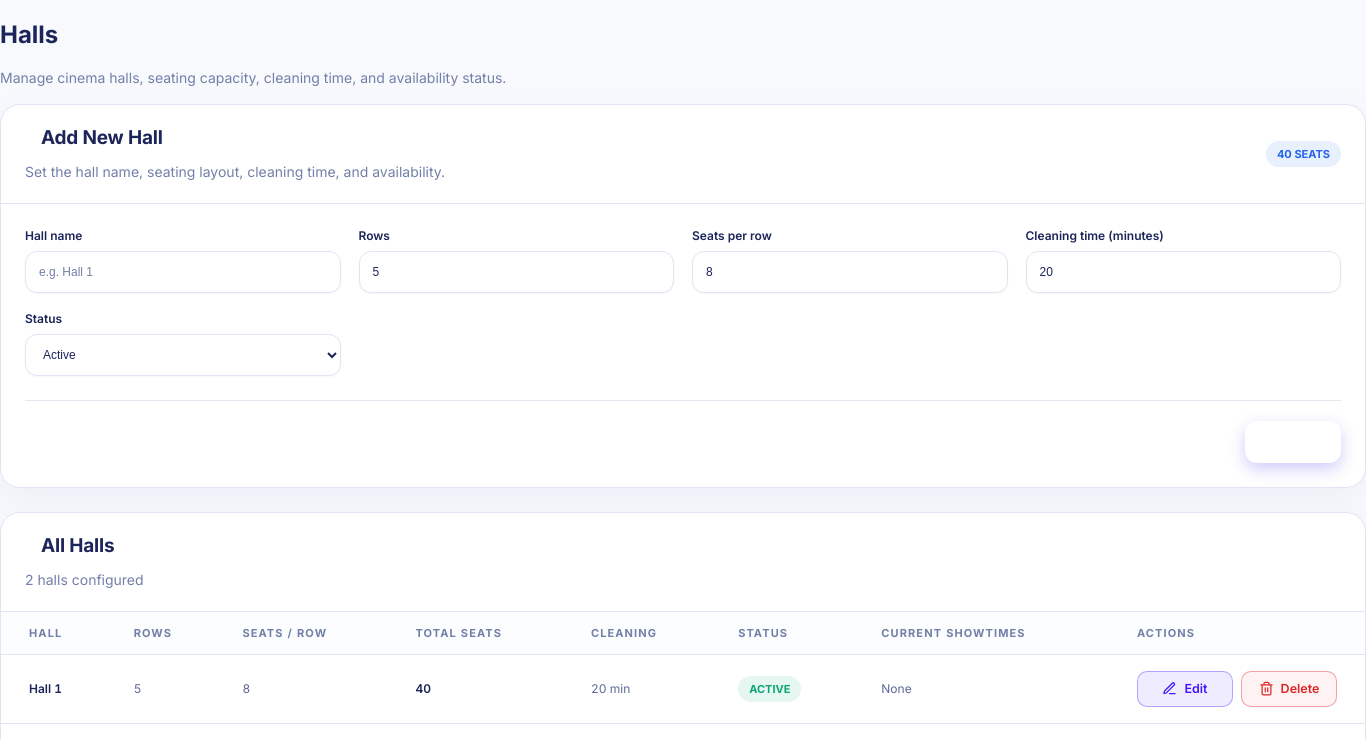
it: Halls Admin Page › should update an existing hall successfully
Expected: the text "Hall 1" is shown, [1, 655, 114, 724]
Click the button "Edit" in the row of "Hall 1": click(1185, 689) [1137, 671, 1233, 707]
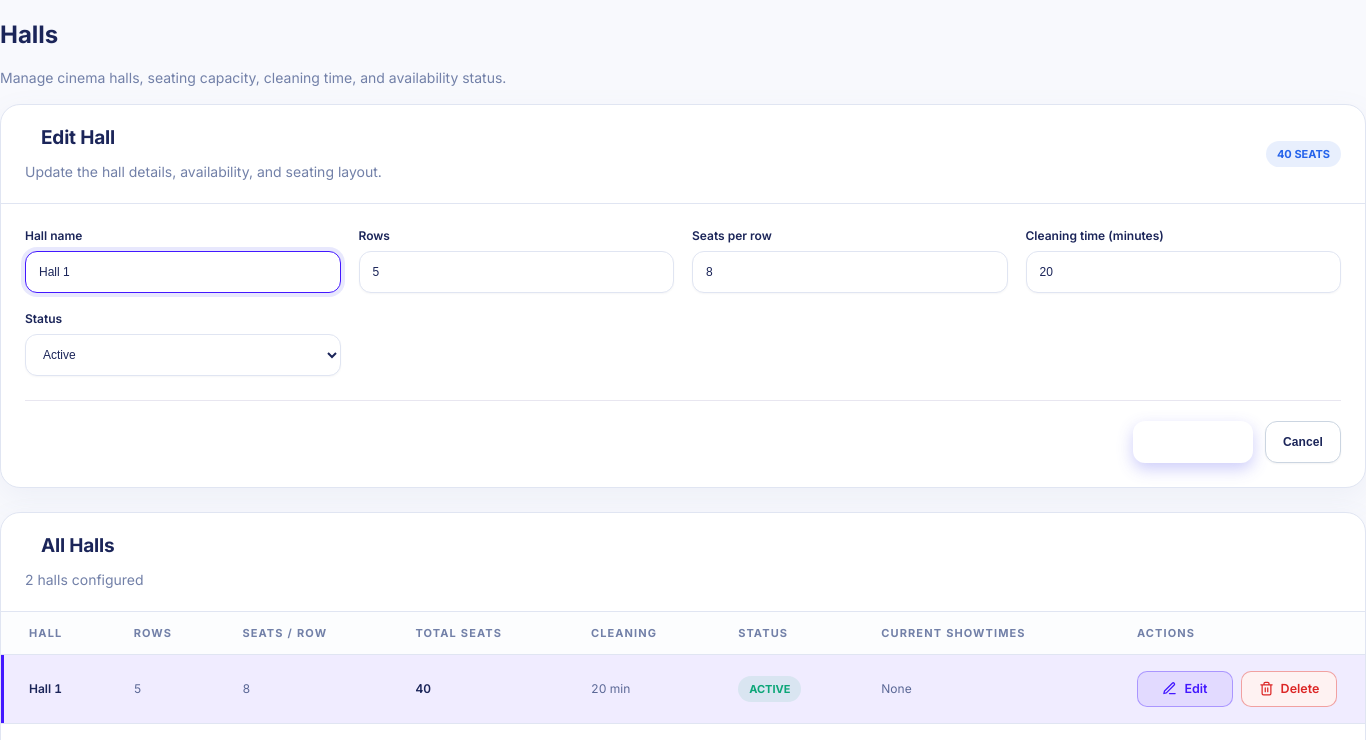
Replace the text in the field labelled "Hall name" with "Premium Hall": (183, 272) [25, 251, 340, 293]
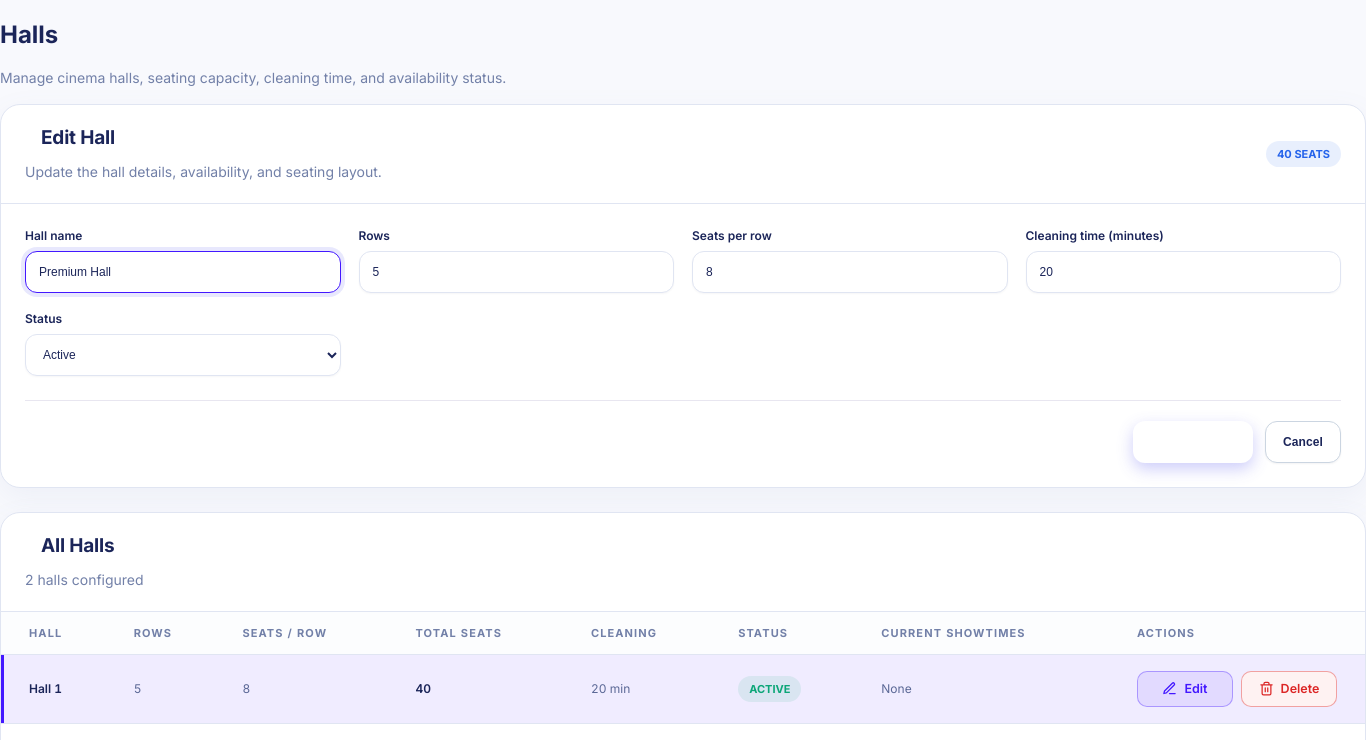
Click the button "Save Changes": click(1193, 442) [1133, 421, 1253, 463]
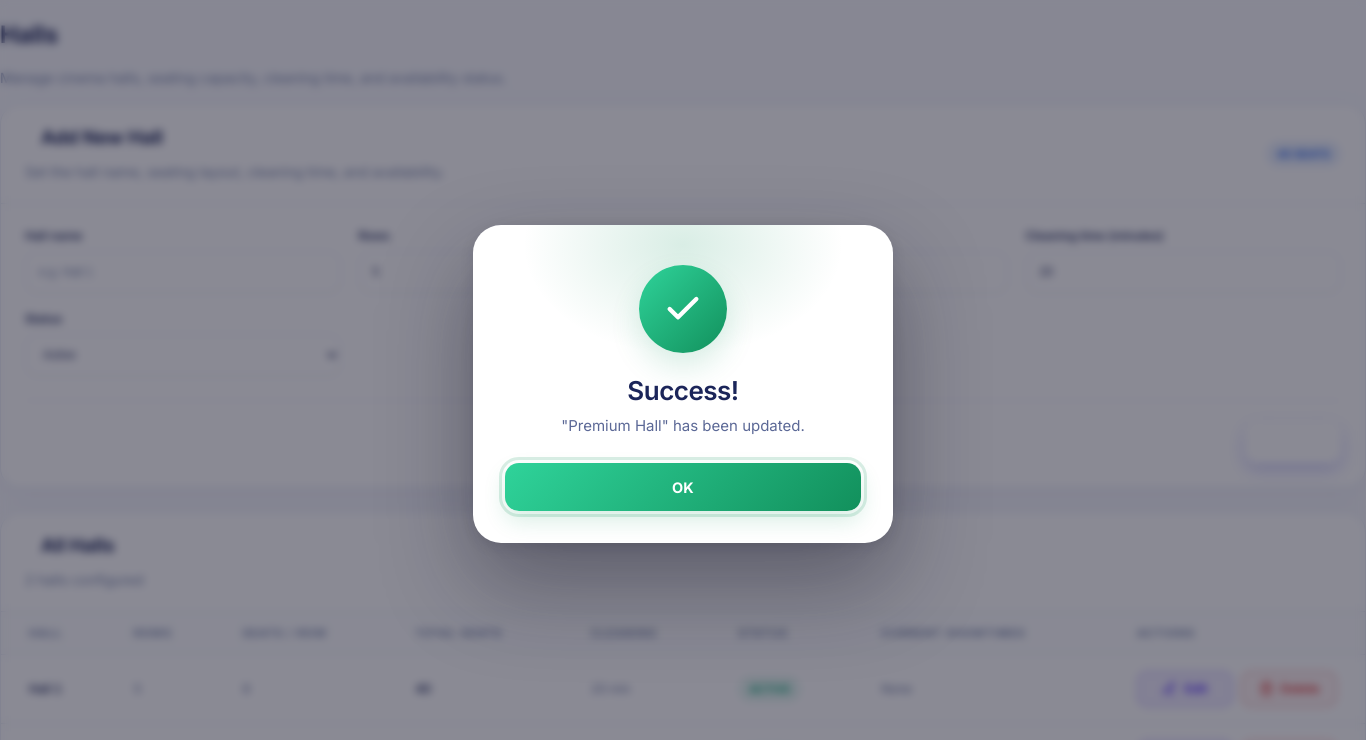
Expected: the message shows "\"Premium Hall\" has been updated.", [561, 416, 805, 435]
